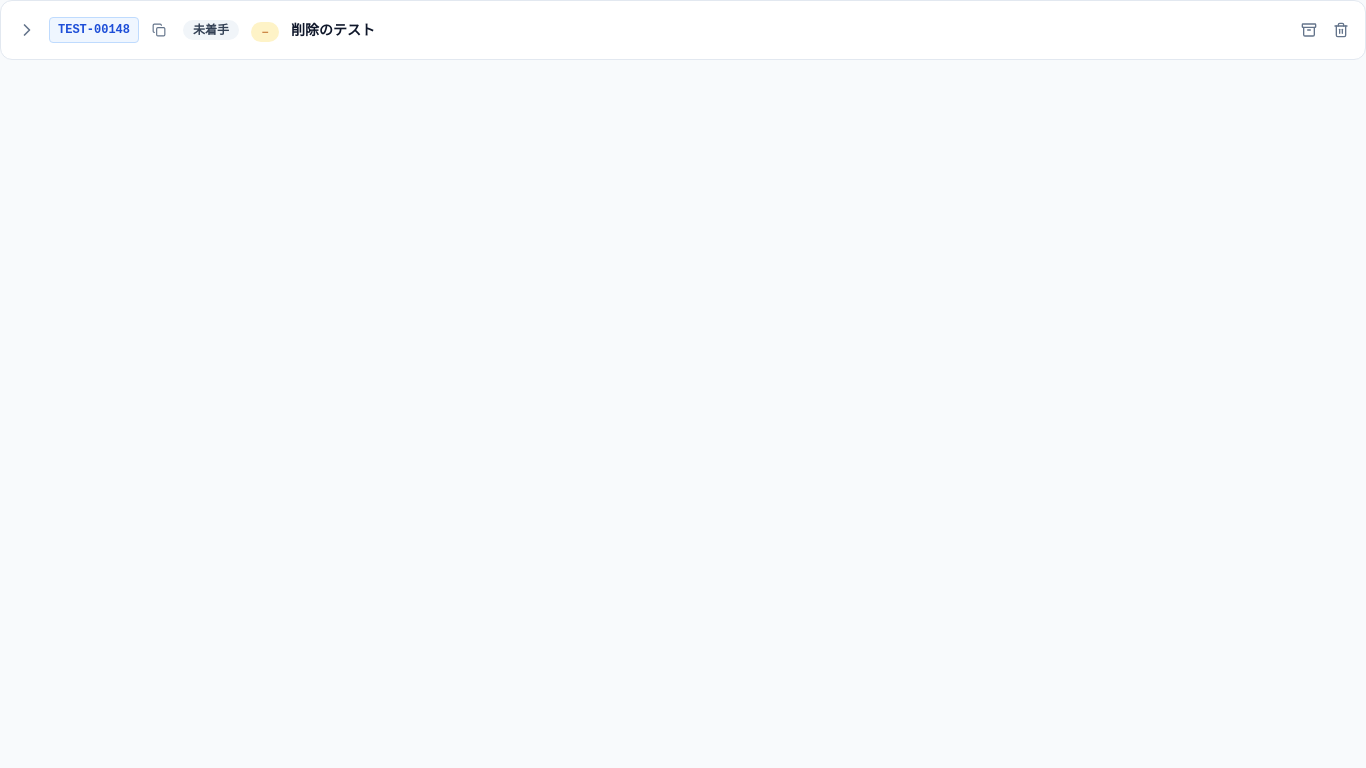
Test: TicketItem ticket deletion › deletes the ticket and refreshes on confirm
Click the button named "チケットを削除: TEST-00148 削除のテスト" at [1341, 30], box [1329,18,1353,42]
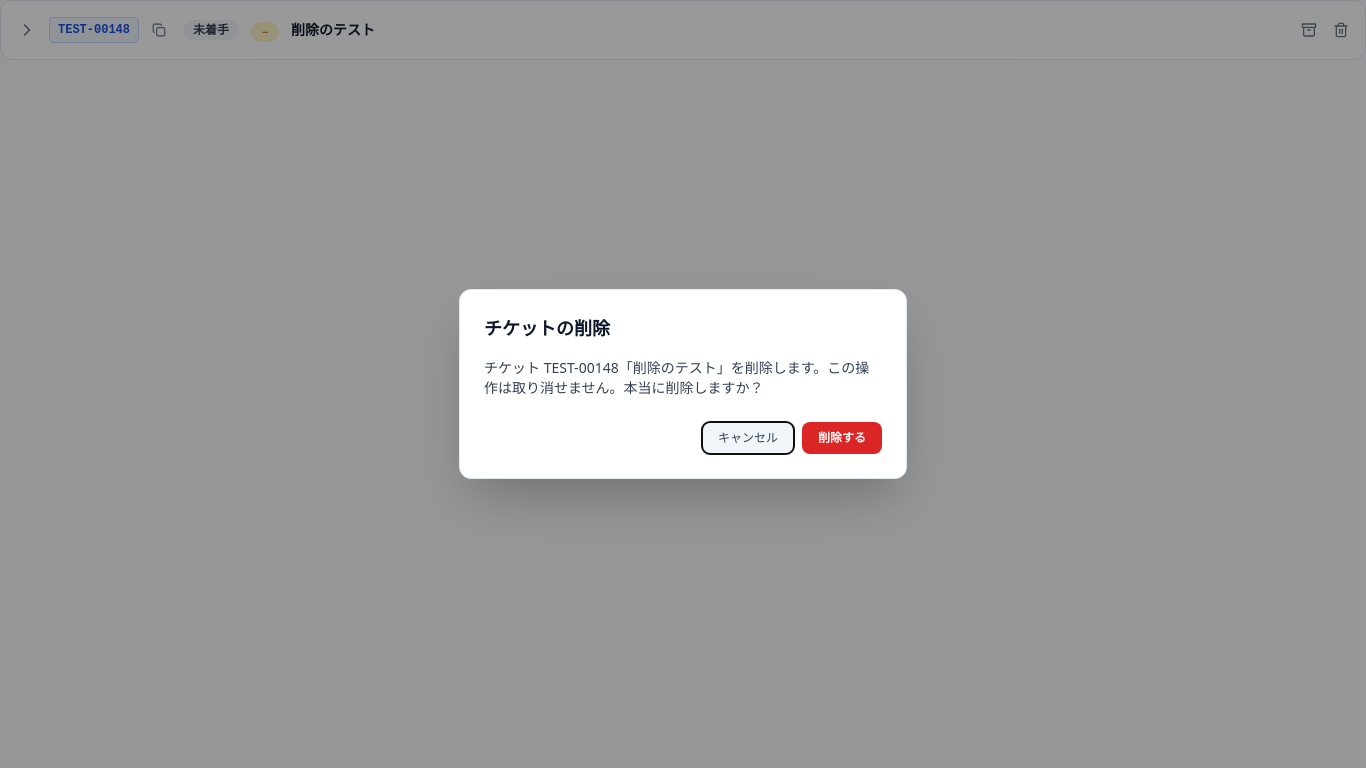
Click the button with test id "ticket-delete-confirm-confirm" at [842, 438], box [802,422,882,454]
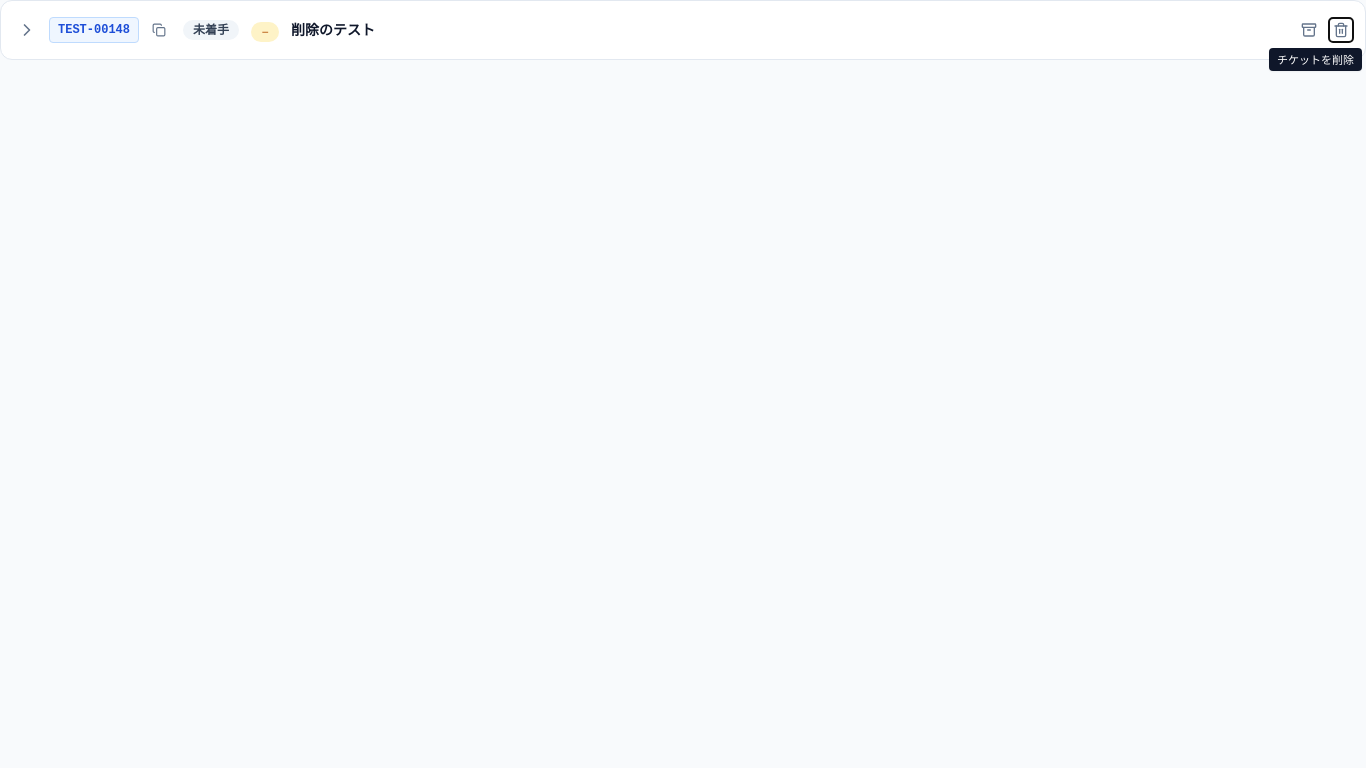
Now the dialog with test id "ticket-delete-confirm" is gone
